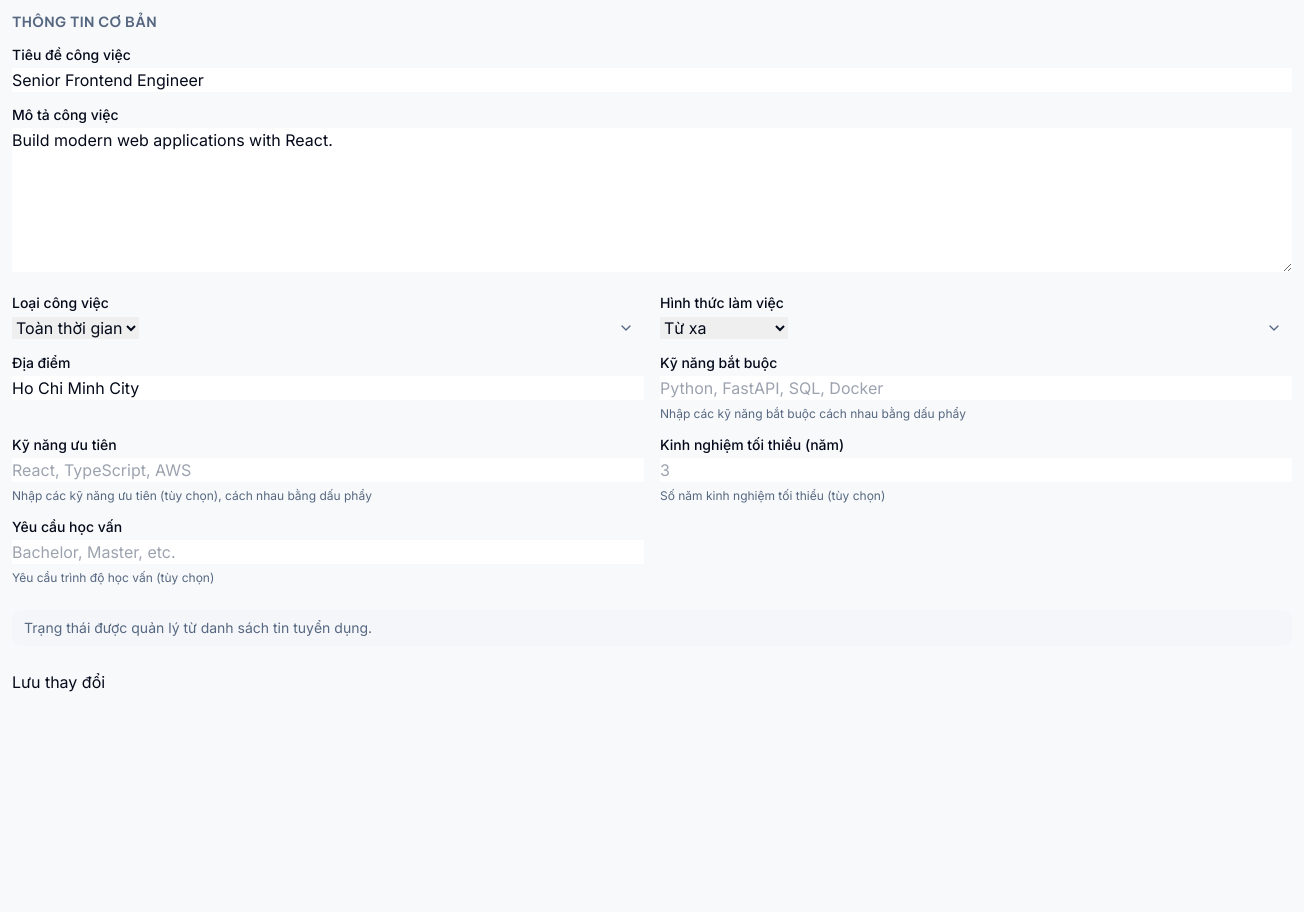
Scenario: JobForm › submits an update via PATCH to the recruiter job endpoint
Replace the text in the field labelled "Tiêu đề công việc" with "Staff Frontend Engineer": (652, 80) [12,68,1292,92]
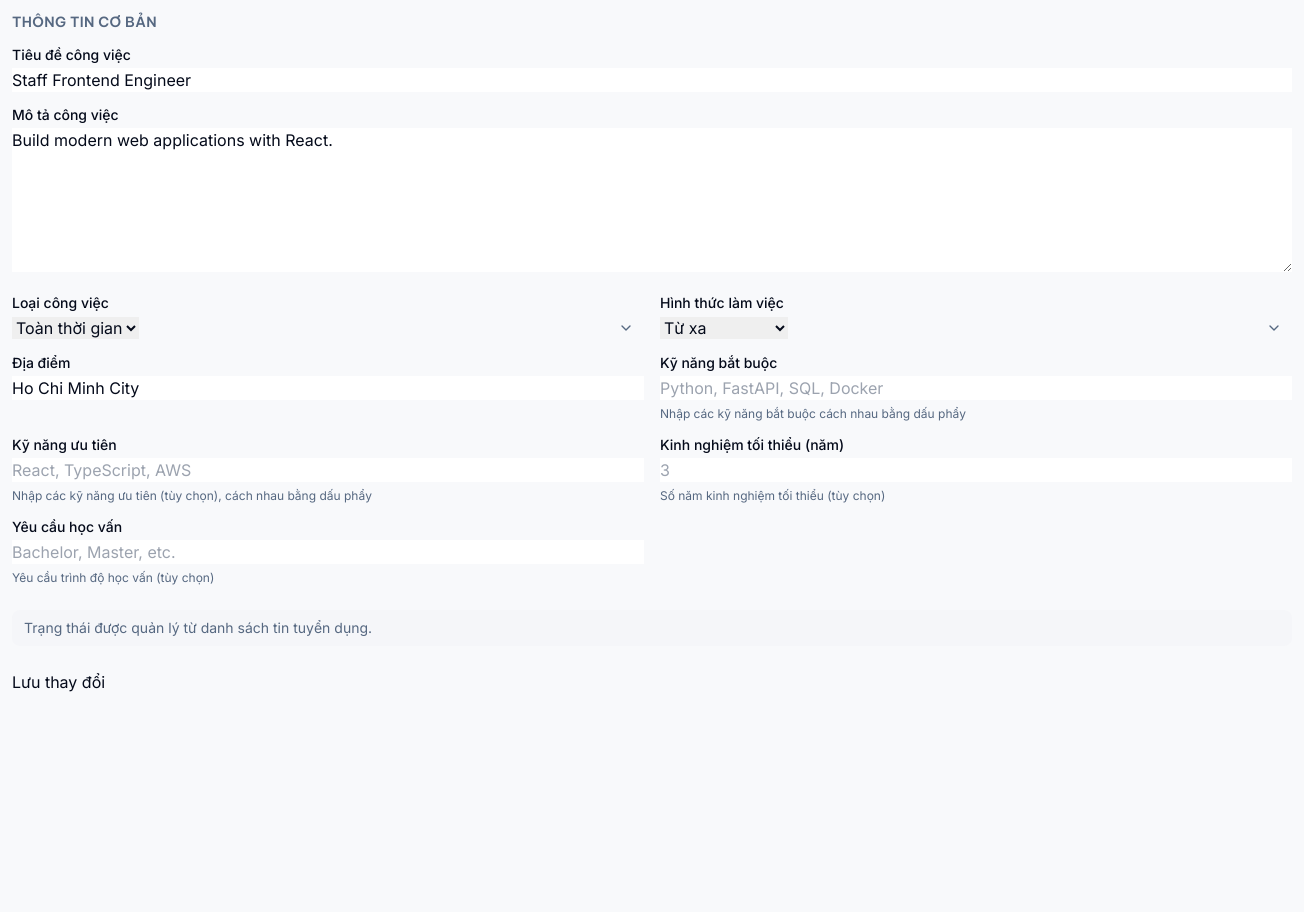
Click the button "Lưu thay đổi": click(59, 682) [12,670,105,694]
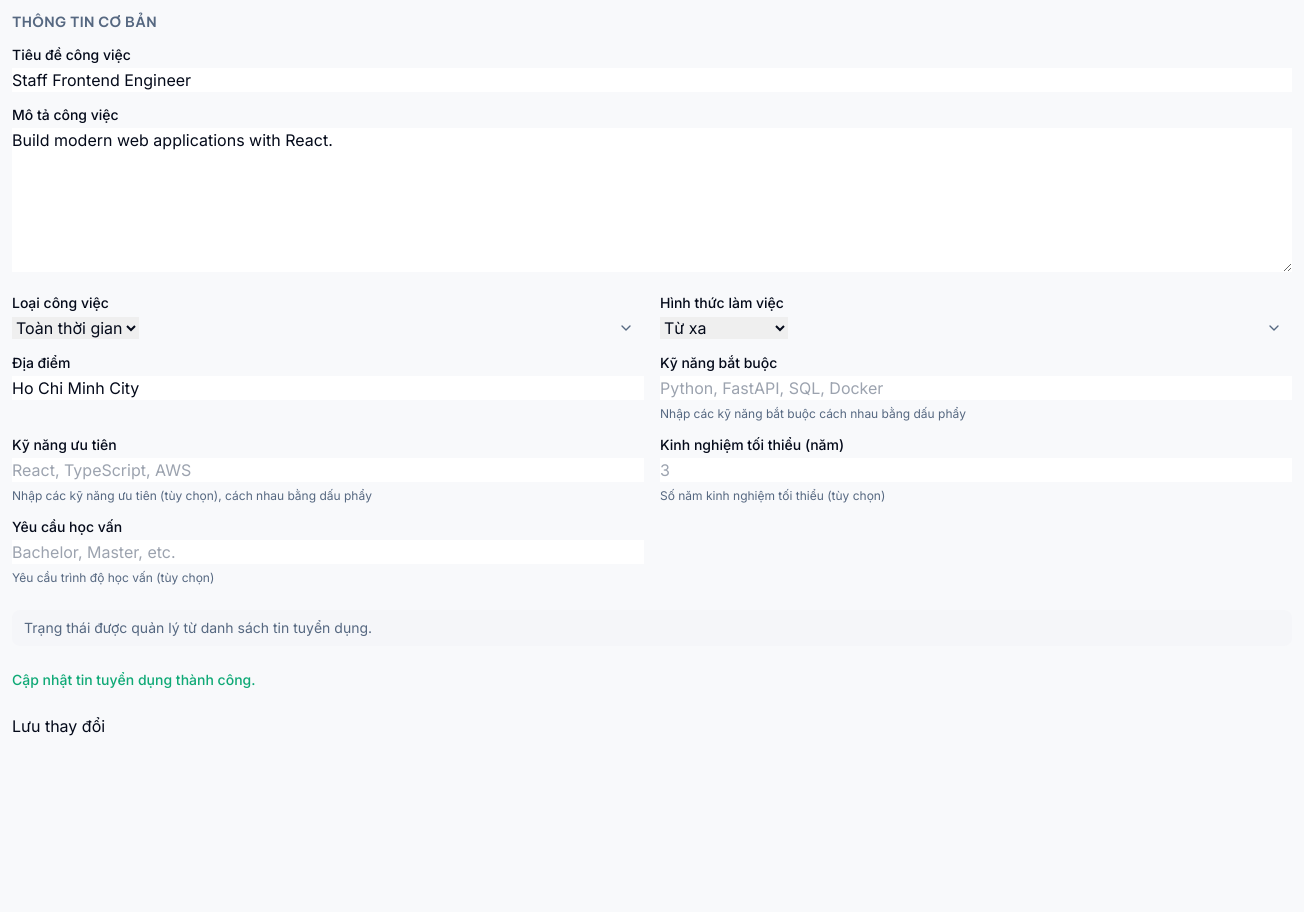
Expected: the text "Cập nhật tin tuyển dụng thành công." is shown, [12,671,256,688]
